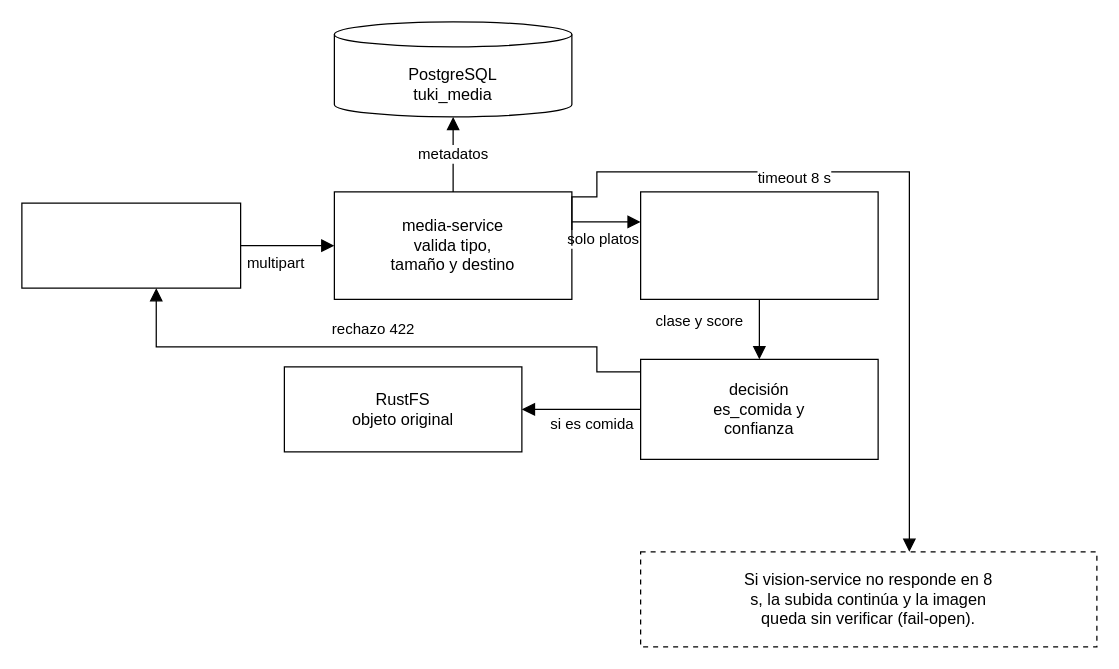
This 1119x669 diagram has some shape labels left out. The centre of each missing label's shape, as x and y in pixels:
panel-restaurante sube una foto: [131,245]
vision-service YOLO11n-cls · umbral 0,3: [758,245]
